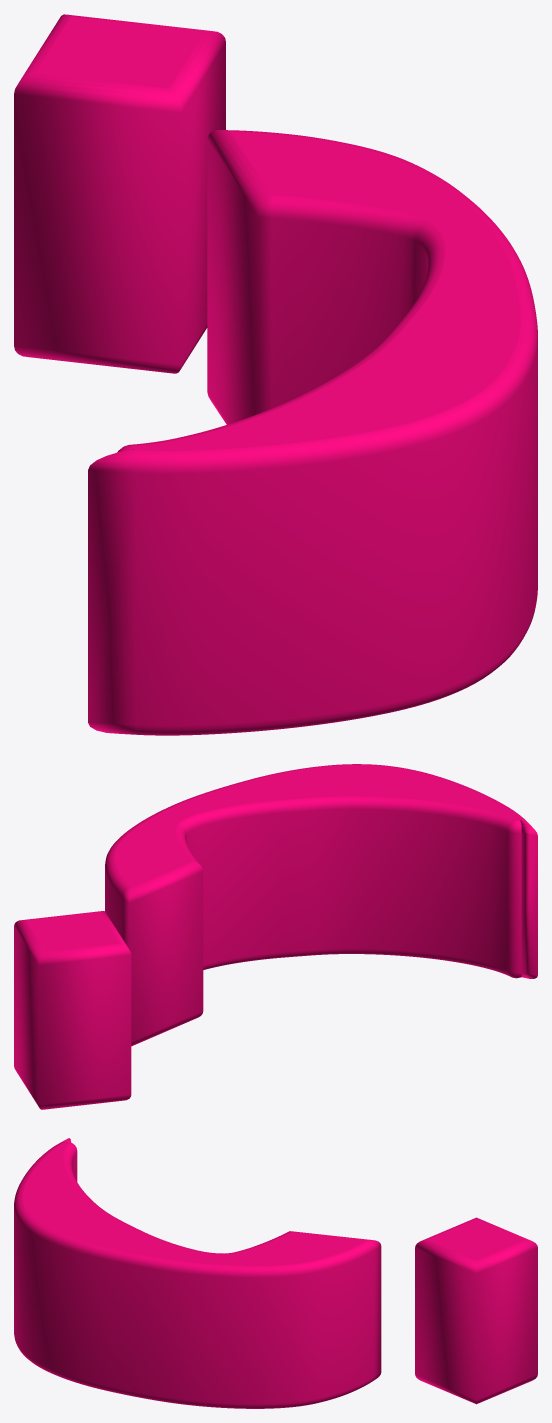
Rendered from 11 zal.fbx.
The picture shows the model from 3 angles, top to bottom: view 1: azimuth 30°, elevation 25°; view 2: azimuth 150°, elevation 25°; view 3: azimuth 270°, elevation 25°; orthographic projection. The views are drawn at different scales.
Parts seen in each view (by area): view 1: Text.142; view 2: Text.142; view 3: Text.142.
Boxes of the visible parts, left/top/right/bottom form: Text.142: left=14, top=14, right=537, bottom=735; Text.142: left=14, top=764, right=537, bottom=1109; Text.142: left=14, top=1138, right=537, bottom=1408.
Bounding box in the file's own units: 37.14 × 18 × 60.14.
